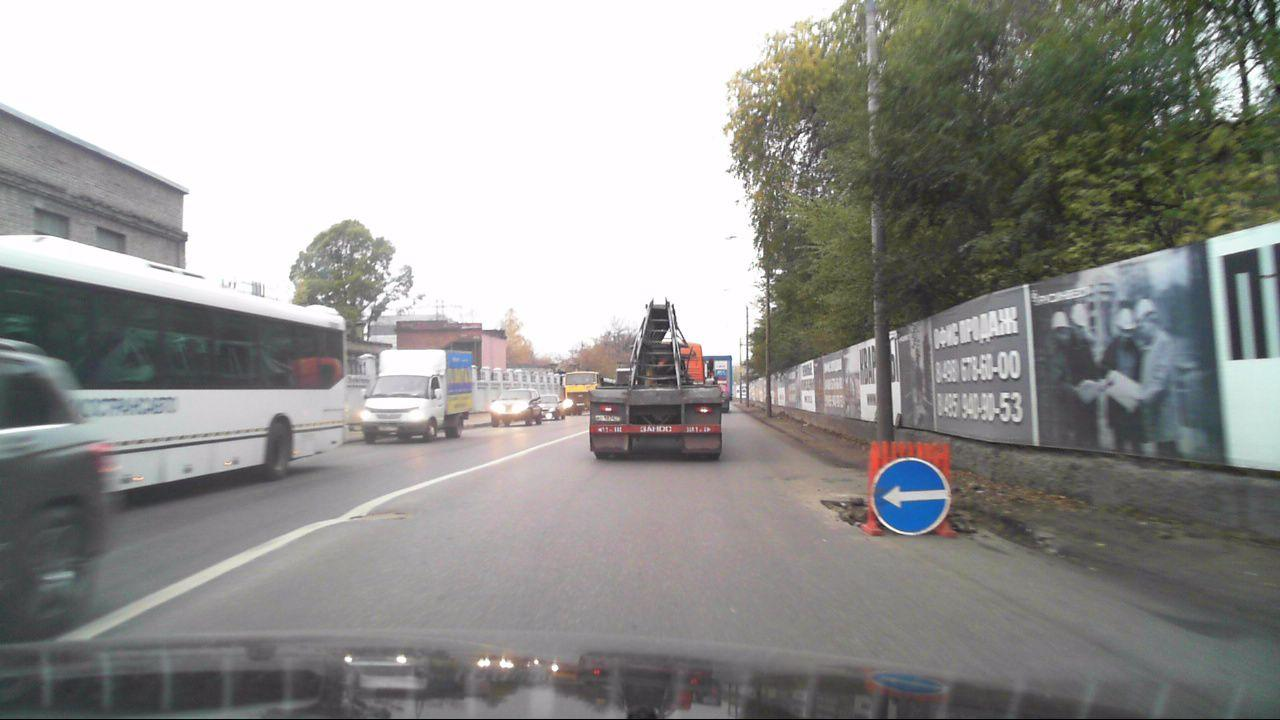4_2_2: (872, 458, 950, 536)
